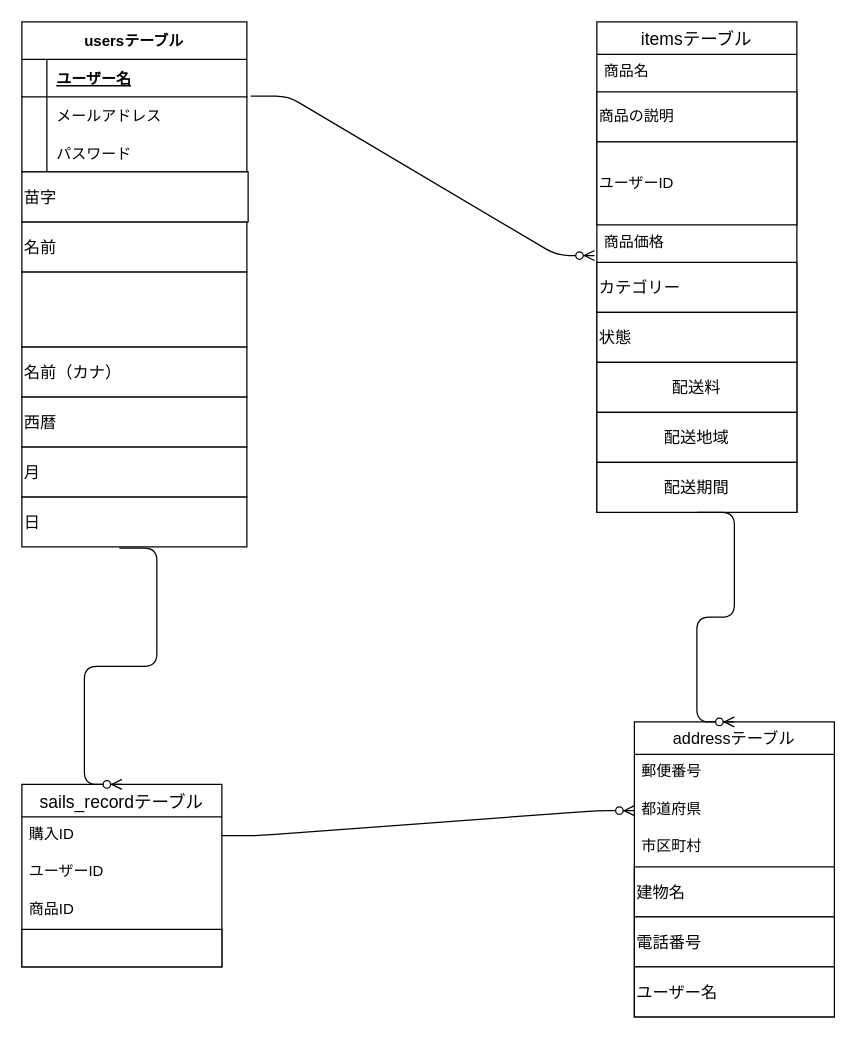
This 856x1039 diagram has some shape labels left out. Each missing label, with the centre of its shape:
苗字（カナ）: the point at 134,309
購入日時: the point at 121,947
